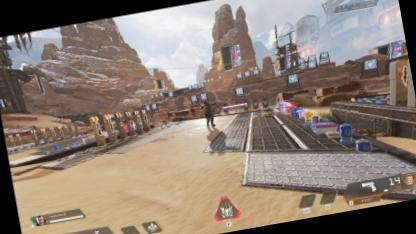Target: (201, 100, 217, 128)
